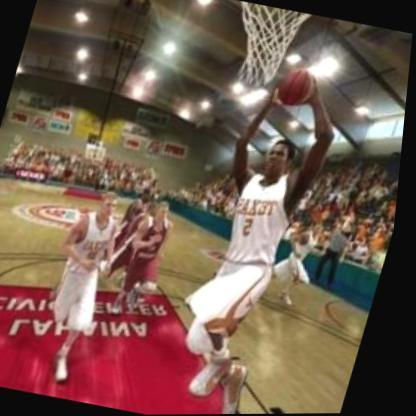basketball: (274, 65, 320, 107)
